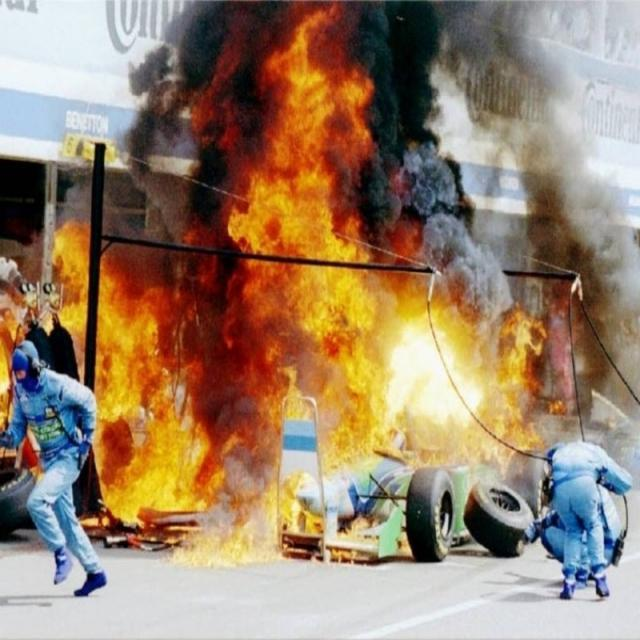Fire: (225, 19, 558, 481), (38, 206, 224, 554)
